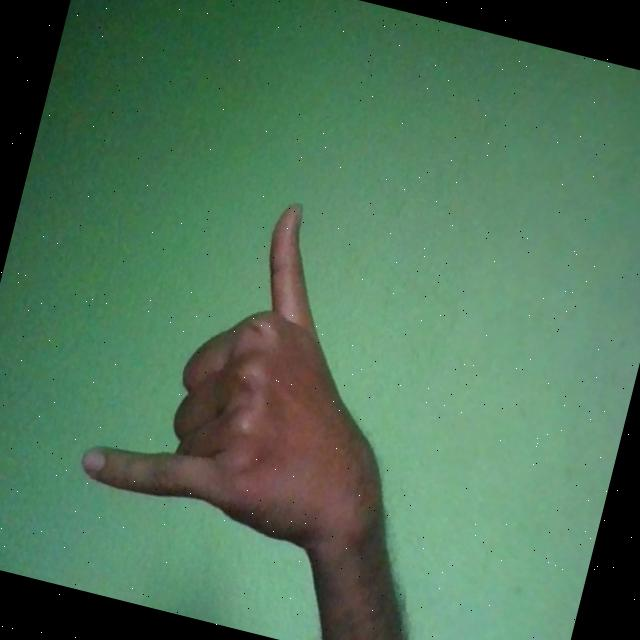Call Me: (74, 164, 458, 566)
